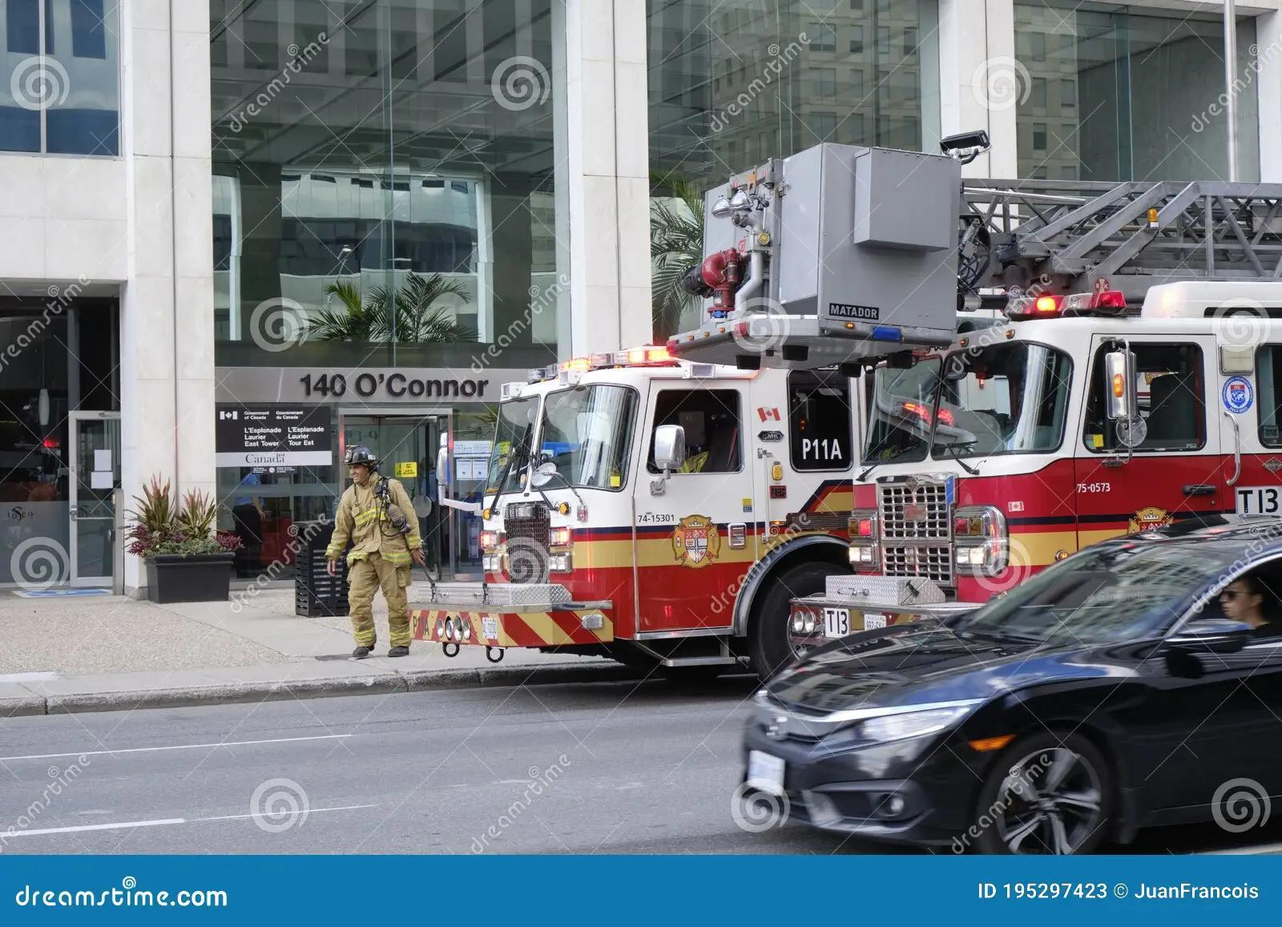Fire-engine: (405, 316, 937, 680), (780, 277, 1278, 662)
